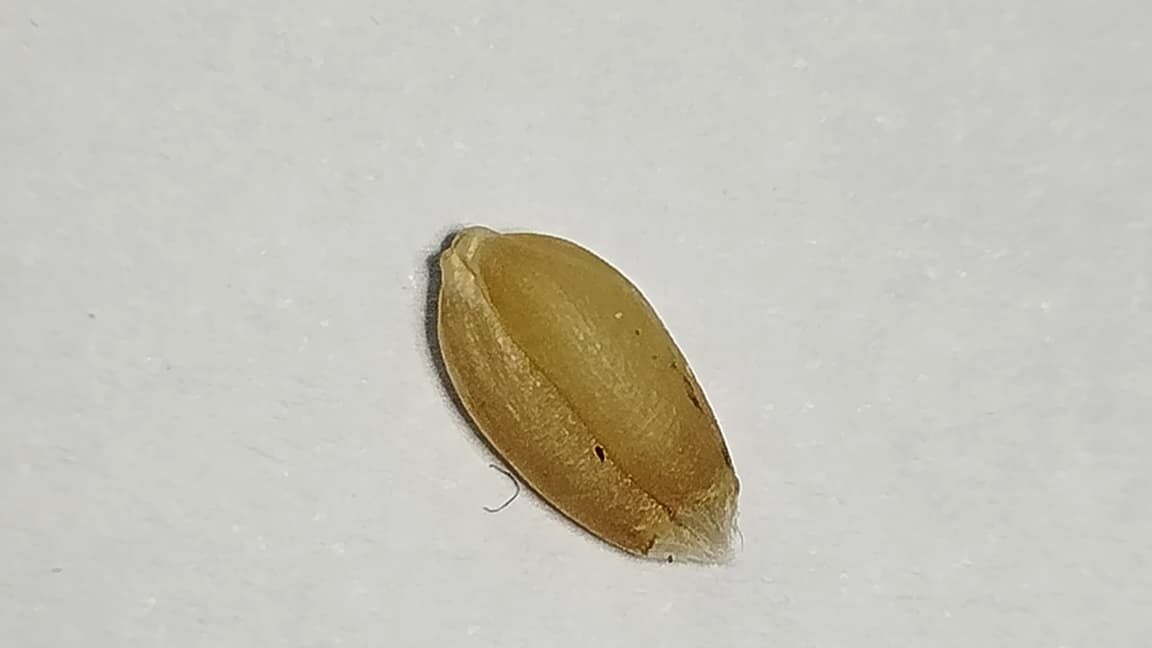healthy: (436, 226, 741, 564)
